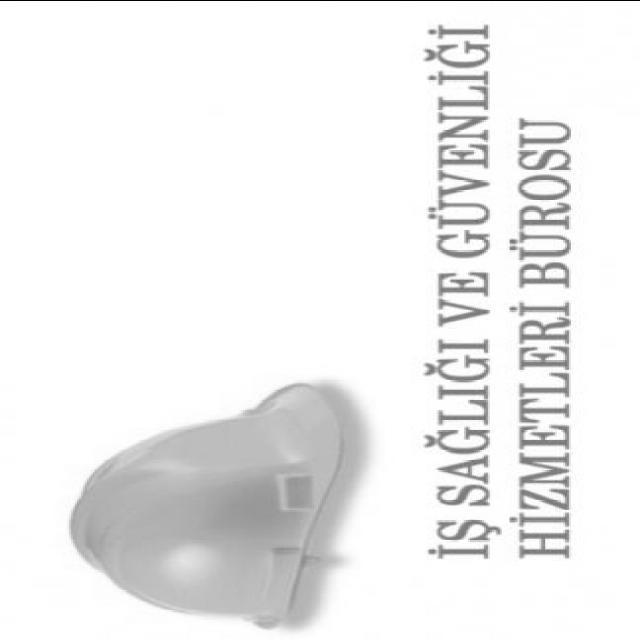safety_helmet: (69, 381, 348, 630)
